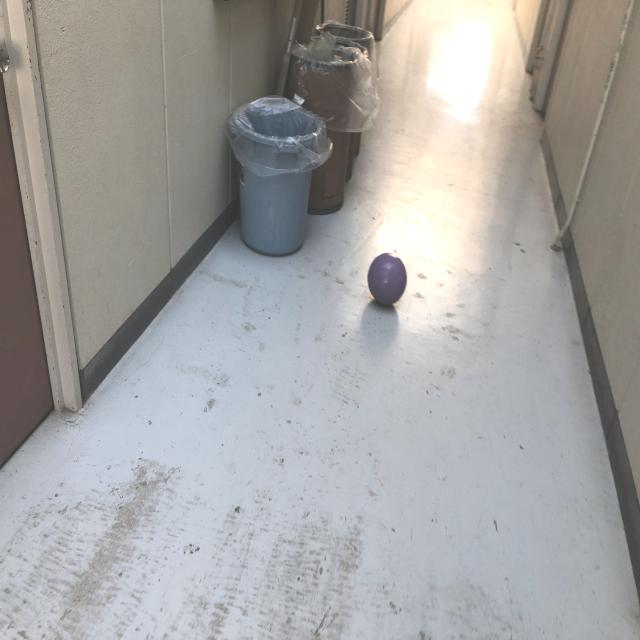purple_ball: (368, 254, 408, 302)
